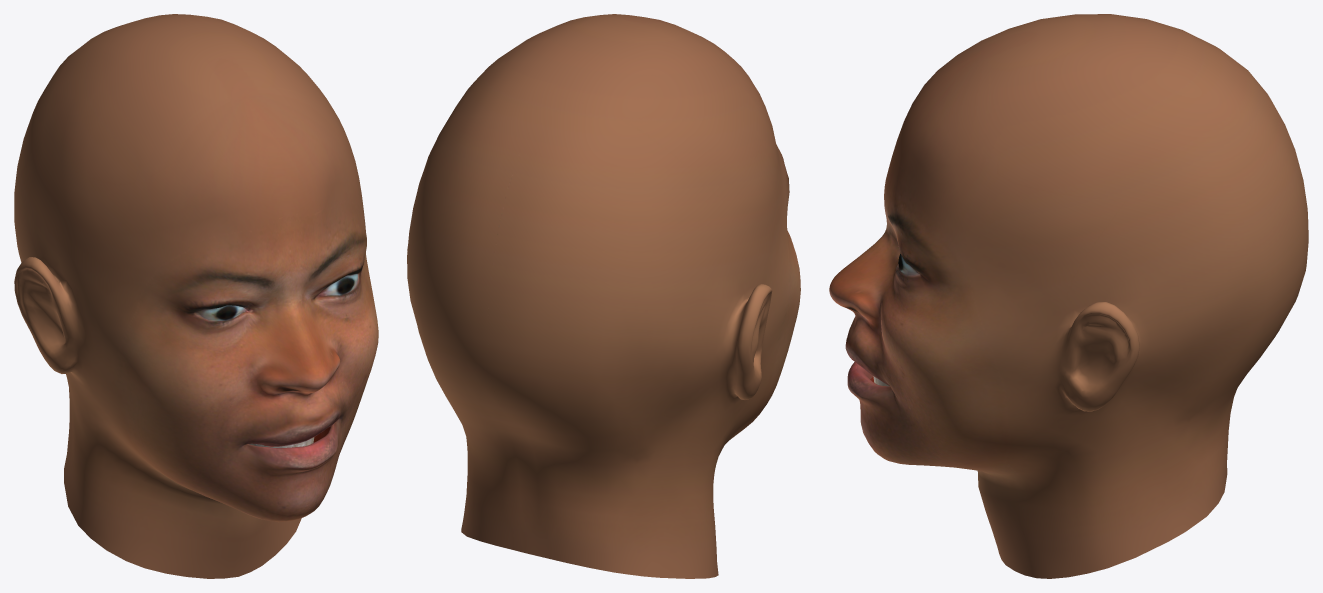
Rendered from v332_obj_ExpressionSneer.obj.
3 views of the same model, side by side, from view 1: azimuth 30°, elevation 25°; view 2: azimuth 150°, elevation 25°; view 3: azimuth 270°, elevation 25° (orthographic). The views are drawn at different scales.
Parts seen in each view (by area): view 1: HeadHires; view 2: HeadHires; view 3: HeadHires.
Part boxes in pixels (x1=…): HeadHires: x1=14, y1=14, x2=378, y2=578; HeadHires: x1=407, y1=14, x2=800, y2=578; HeadHires: x1=829, y1=14, x2=1308, y2=578.
Size of the model in its own units: 187 by 282 by 233.
